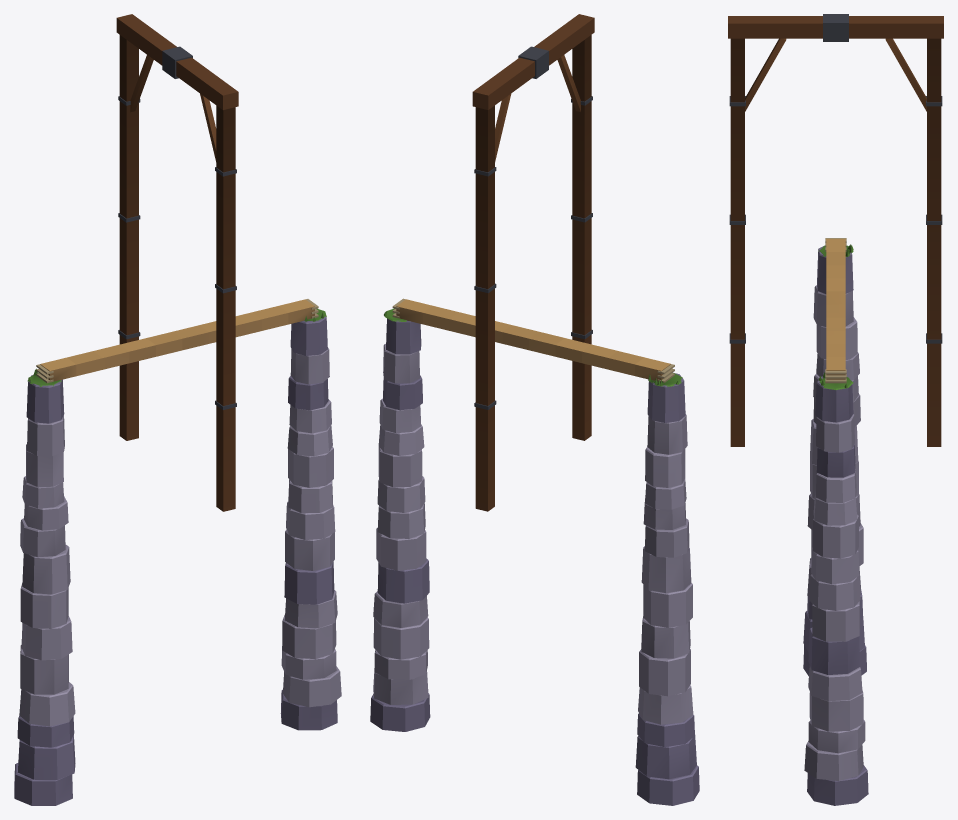
The model's file is g_beam.glb.
3 renders of one model, left to right at view 1: azimuth 30°, elevation 25°; view 2: azimuth 150°, elevation 25°; view 3: azimuth 270°, elevation 25°, orthographic.
Parts seen in each view (by area): view 1: g_beam; view 2: g_beam; view 3: g_beam.
Boxes of the visible parts, x1=… form: g_beam: x1=14, y1=14, x2=341, y2=805; g_beam: x1=370, y1=14, x2=699, y2=805; g_beam: x1=728, y1=14, x2=943, y2=805.
Bounding box in the file's own units: 11.49 × 24.21 × 6.6.
